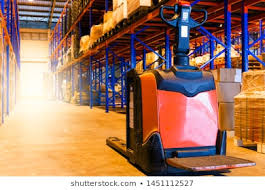Pallet Jack: (104, 1, 257, 175)
